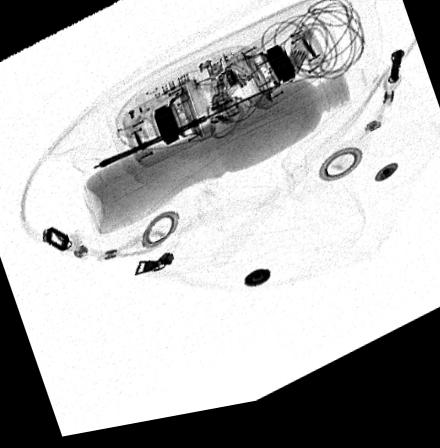Knife: (90, 92, 283, 173)
